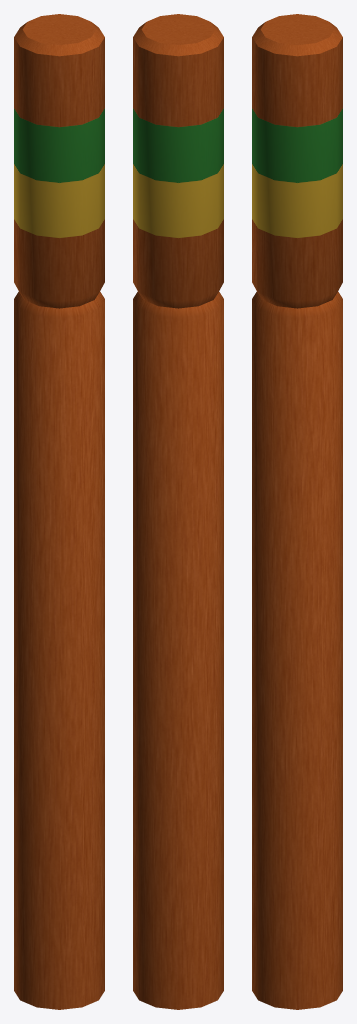
The model's file is pond_pole.fbx.
The picture shows the model from 3 angles, left to right: view 1: azimuth 30°, elevation 25°; view 2: azimuth 210°, elevation 25°; view 3: azimuth 270°, elevation 25°; orthographic projection.
Visible parts, largest first — view 1: marker; view 2: marker; view 3: marker.
Boxes of the visible parts, bbox=[...] form: marker: bbox=[14, 14, 104, 1009]; marker: bbox=[133, 14, 223, 1009]; marker: bbox=[252, 14, 342, 1009].
Size of the model in its own units: 12 by 140 by 12.
